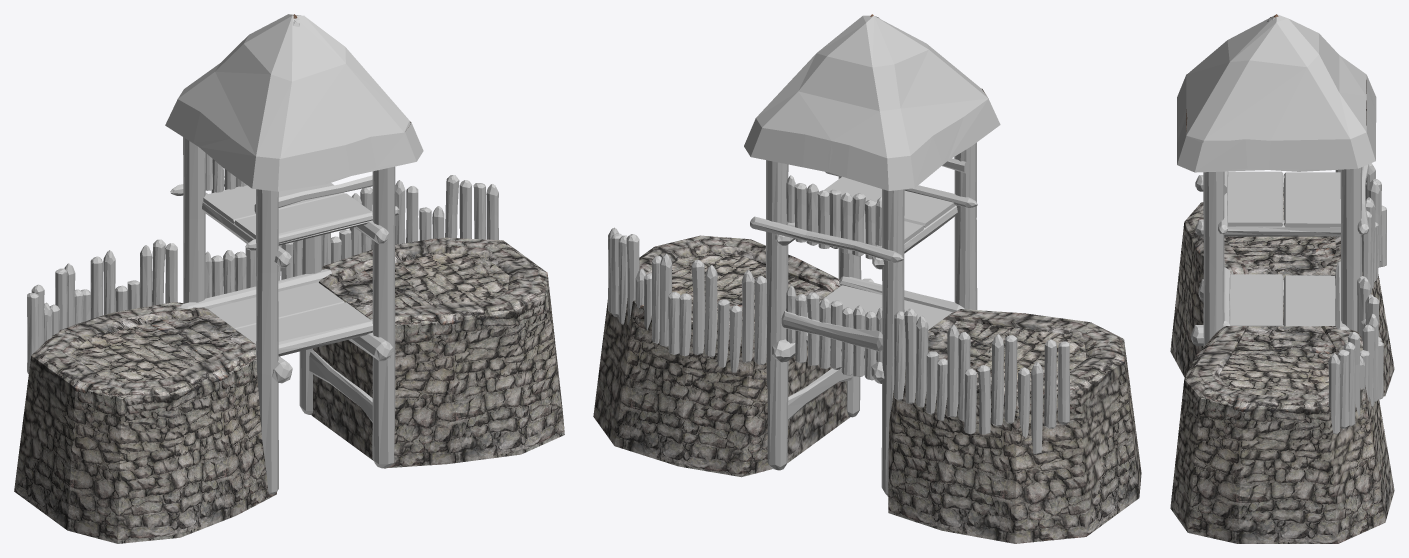
Rendered from TowerGate_1b_LOD1.fbx.
3 renders of one model, left to right at view 1: azimuth 30°, elevation 25°; view 2: azimuth 150°, elevation 25°; view 3: azimuth 270°, elevation 25°, orthographic. The views are drawn at different scales.
Visible parts, largest first — view 1: Cube_5, Cylinder_1, Cube; view 2: Cube_5, Cylinder_1, Cube; view 3: Cube_5, Cylinder_1, Cube.
Part boxes in pixels (box(x1,y1,x2,y2)): Cube_5: box(14, 237, 564, 543); Cylinder_1: box(27, 17, 498, 494); Cube: box(165, 14, 423, 191); Cube_5: box(593, 235, 1141, 543); Cylinder_1: box(608, 16, 1069, 496); Cube: box(744, 15, 1000, 190); Cube_5: box(1170, 192, 1394, 543); Cylinder_1: box(1191, 16, 1386, 434); Cube: box(1177, 14, 1376, 172).
Bounding box in the file's own units: 1853 × 770 × 1582.
